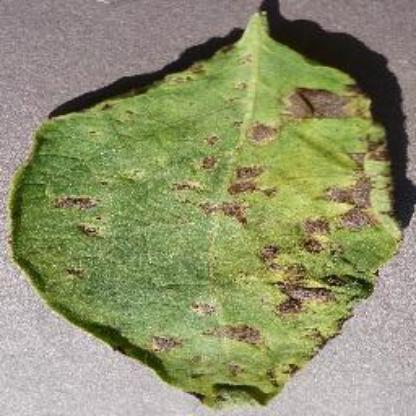Early-Blight: (10, 6, 416, 410)
